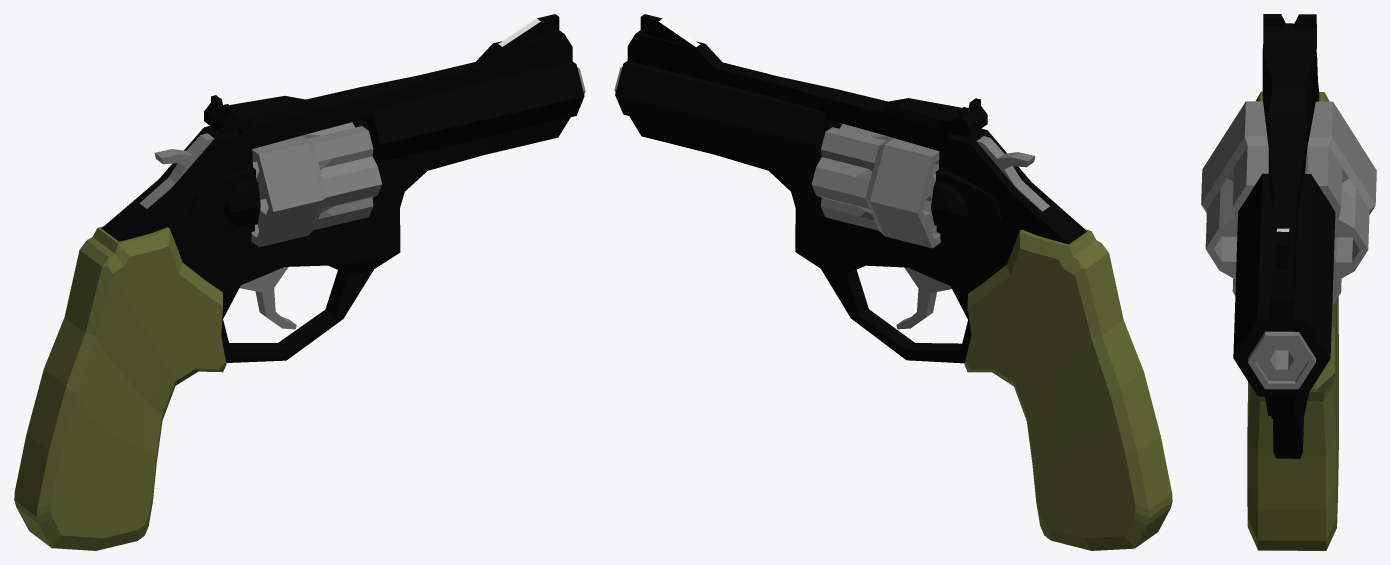
Rendered from lcrx22mag.obj.
3 views of the same model, side by side, from view 1: azimuth 30°, elevation 25°; view 2: azimuth 150°, elevation 25°; view 3: azimuth 270°, elevation 25° (orthographic). The views are drawn at different scales.
Visible parts, largest first — view 1: lcrx22mag_Cylinder.004; view 2: lcrx22mag_Cylinder.004; view 3: lcrx22mag_Cylinder.004.
Part boxes in pixels (bbox=[...]): lcrx22mag_Cylinder.004: bbox=[14, 14, 585, 550]; lcrx22mag_Cylinder.004: bbox=[614, 14, 1172, 550]; lcrx22mag_Cylinder.004: bbox=[1201, 14, 1376, 550].
Bounding box in the file's own units: 0.3041 × 0.2214 × 0.0573.
